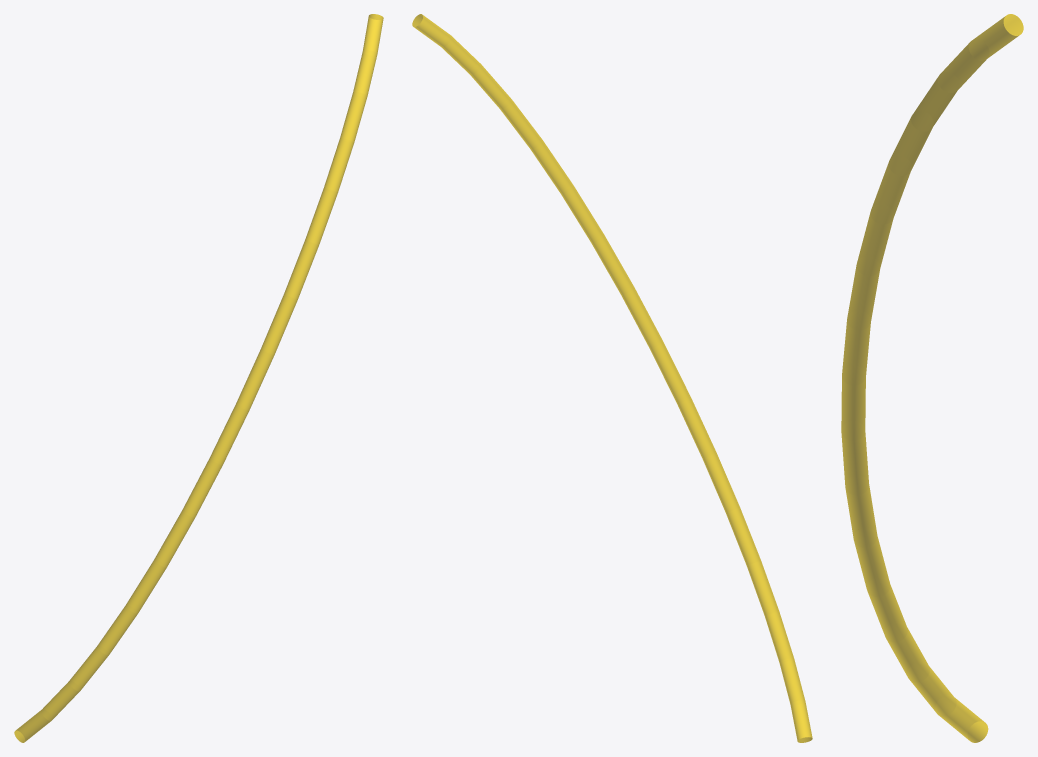
The model's file is Event_402970704_track_62.fbx.
3 views of the same model, side by side, from view 1: azimuth 30°, elevation 25°; view 2: azimuth 150°, elevation 25°; view 3: azimuth 270°, elevation 25° (orthographic). The views are drawn at different scales.
Visible parts, largest first — view 1: Model; view 2: Model; view 3: Model.
Boxes of the visible parts, x1=… form: Model: x1=14, y1=14, x2=383, y2=742; Model: x1=412, y1=14, x2=812, y2=742; Model: x1=841, y1=14, x2=1023, y2=742.
Bounding box in the file's own units: 1.16 × 1.85 × 0.3026.
